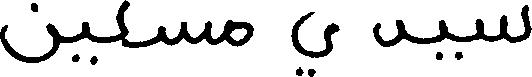X: (0, 0, 57, 67), (295, 7, 335, 76), (478, 0, 531, 47), (161, 16, 209, 50), (225, 15, 249, 51), (377, 15, 401, 51), (117, 0, 125, 51), (439, 15, 443, 64), (83, 17, 87, 43)
